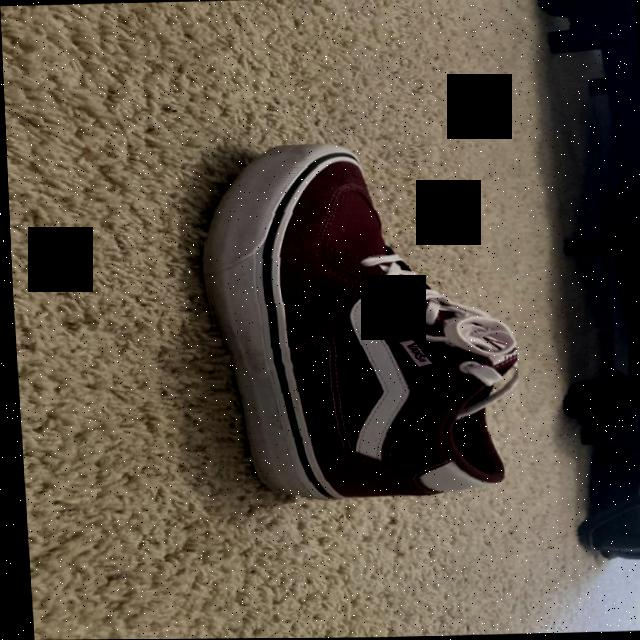shoe: (196, 140, 521, 505)
